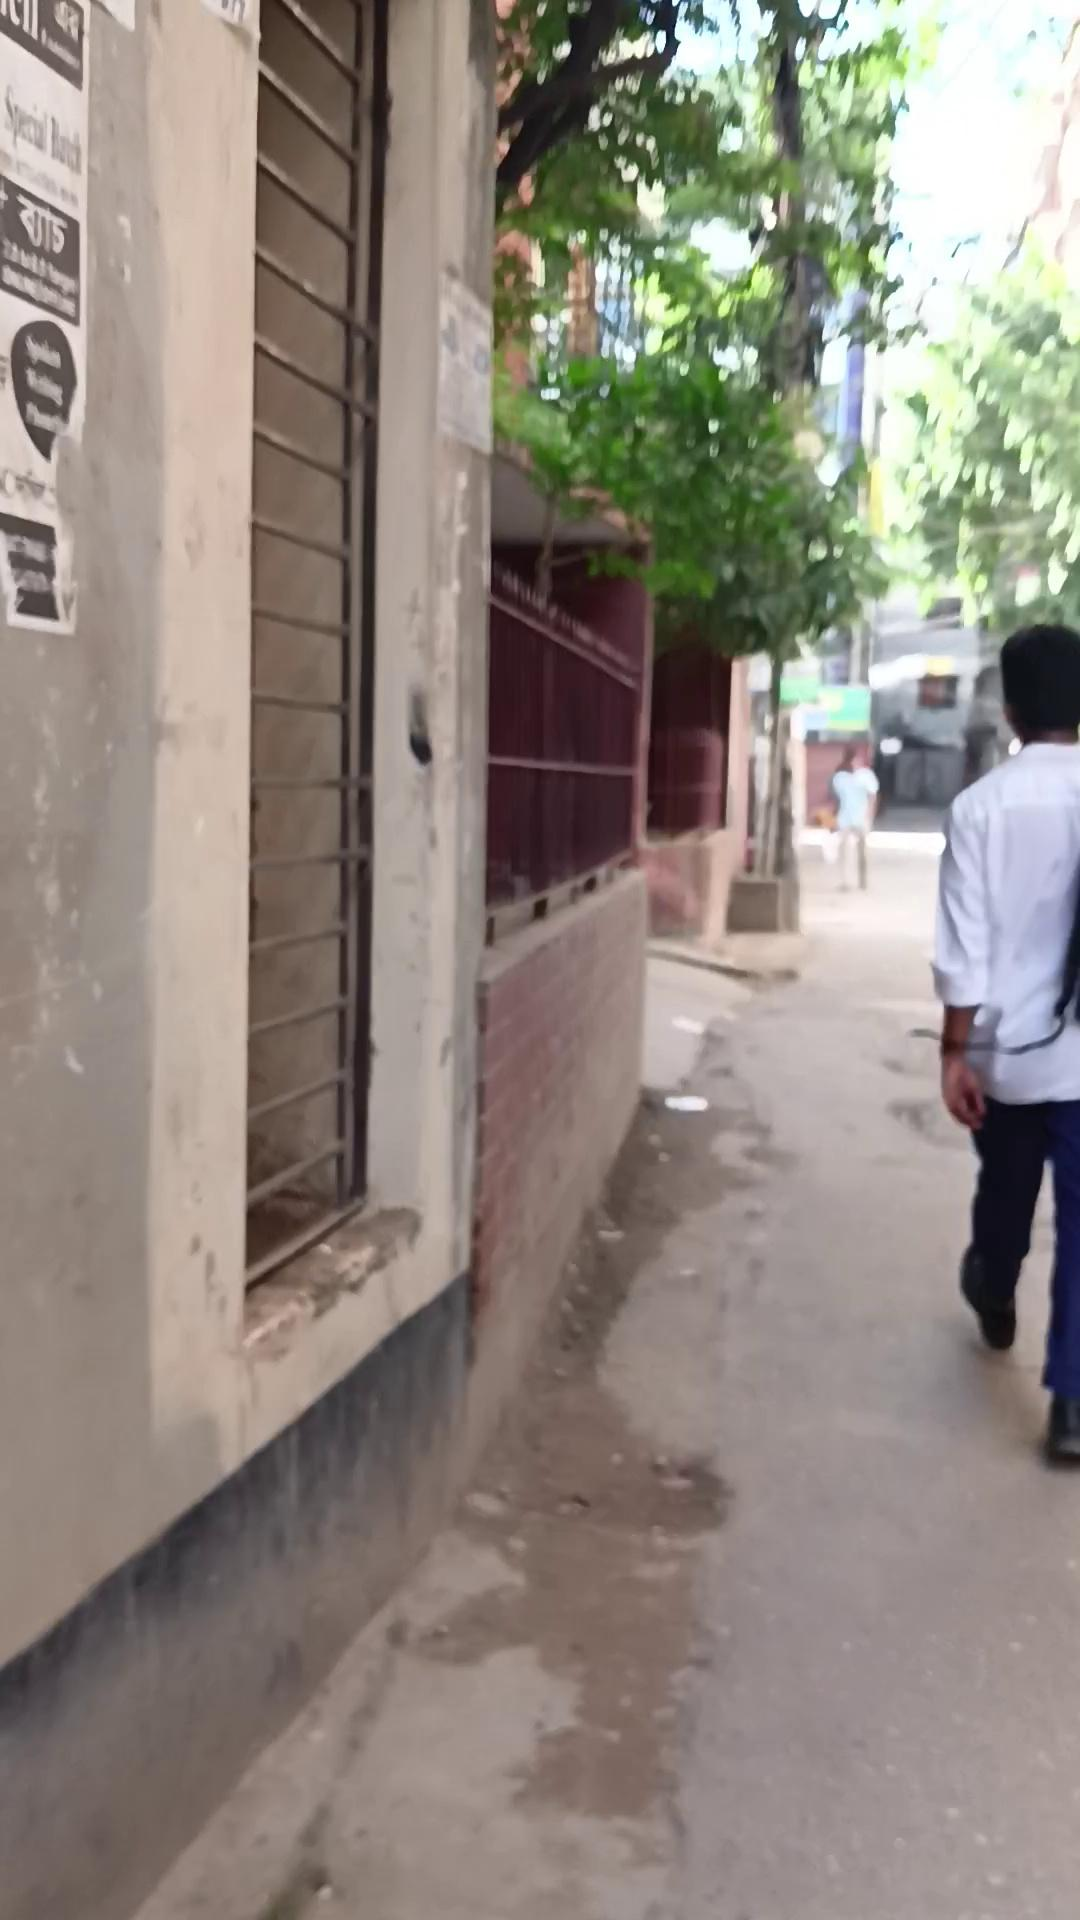Muddy road: (928, 622, 1079, 1464), (827, 742, 880, 891)
Traffic-sign: (864, 595, 1009, 808)
Tree: (0, 0, 516, 1920)
